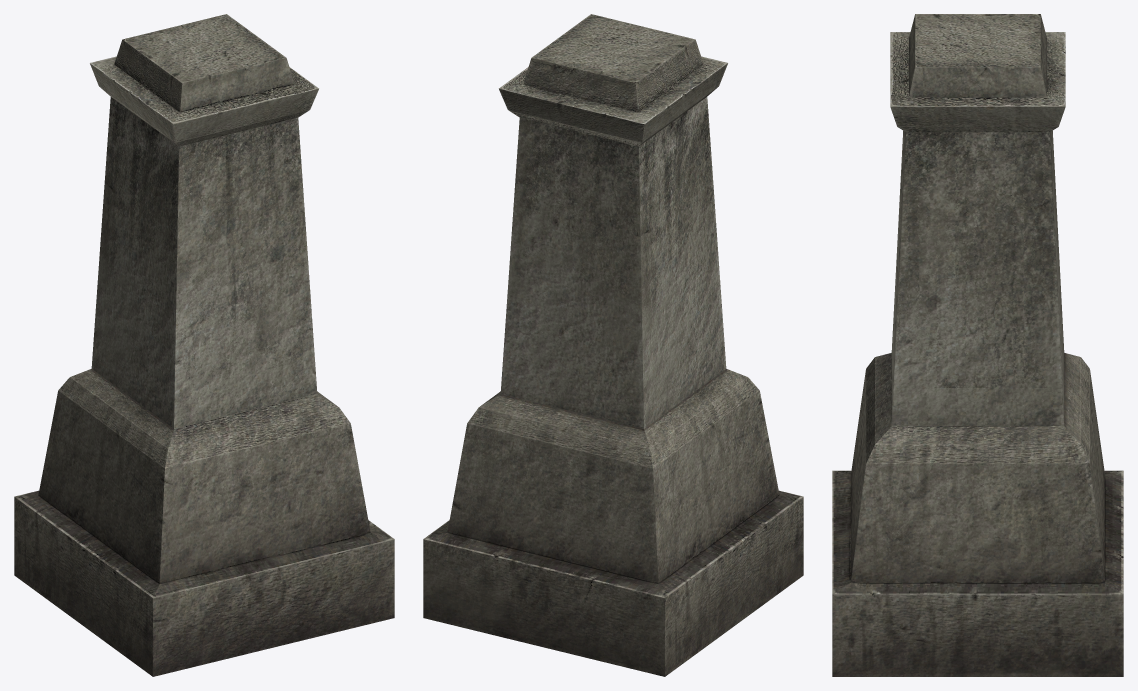
Rendered from Gravestone09.dae.
3 renders of one model, left to right at view 1: azimuth 30°, elevation 25°; view 2: azimuth 150°, elevation 25°; view 3: azimuth 270°, elevation 25°, orthographic. The views are drawn at different scales.
Parts seen in each view (by area): view 1: Gravestone09; view 2: Gravestone09; view 3: Gravestone09.
Part boxes in pixels (box(x1,y1,x2,y2)): Gravestone09: box(14, 14, 394, 676); Gravestone09: box(423, 14, 803, 676); Gravestone09: box(832, 14, 1123, 676).
Bounding box in the file's own units: 0.8734 × 0.8688 × 1.89.
